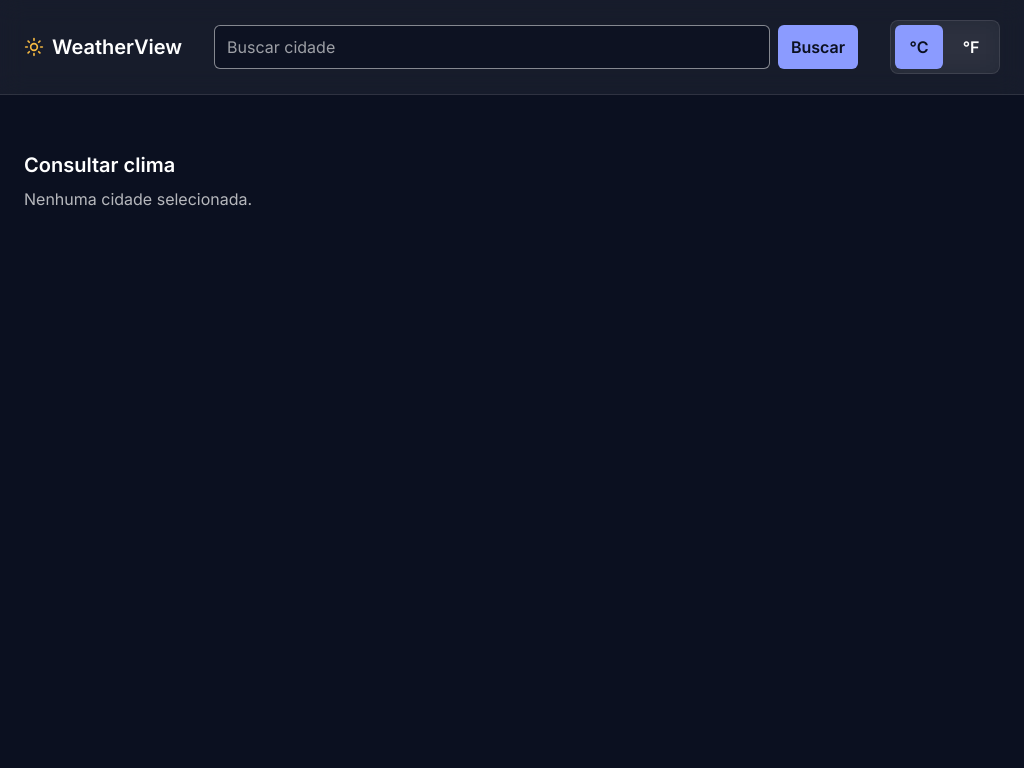
Test: App › usa o serviço real por padrão com fetch simulado, sem depender de cidade fixa
Type "Lisboa" into the search field at (492, 47), box x1=214 y1=25 x2=770 y2=69
Then press Enter
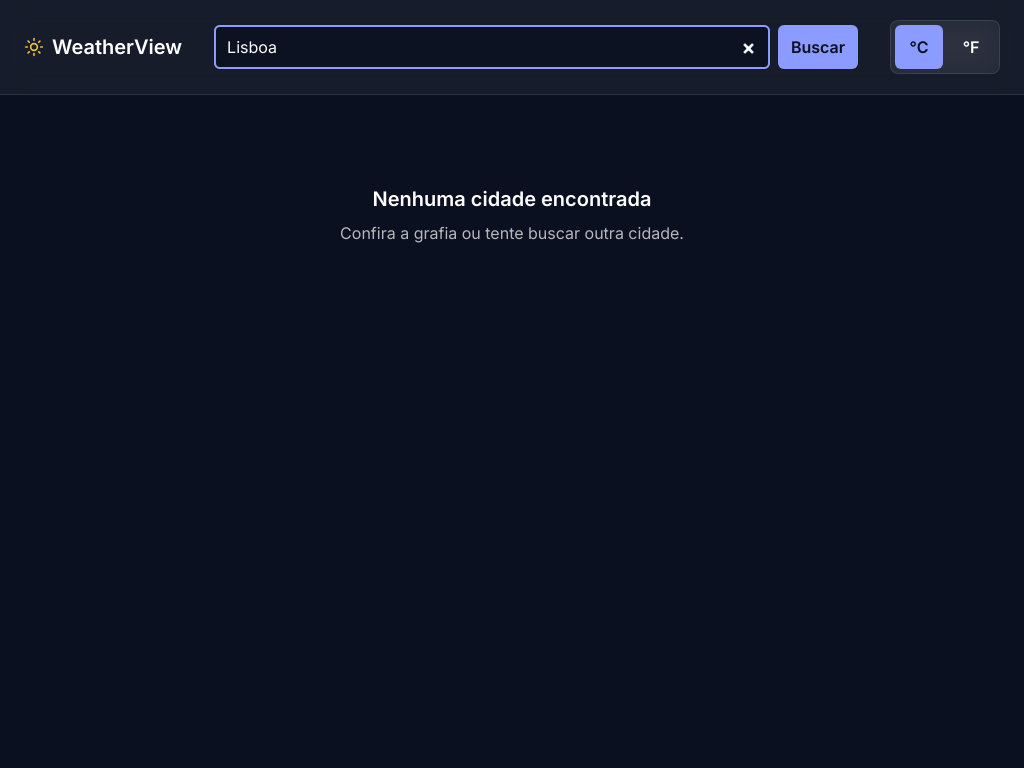
Expected: the heading "Nenhuma cidade encontrada" is shown, x1=373 y1=185 x2=652 y2=213
Replace the text in the search field with "Porto Alegre" at (492, 47), box x1=214 y1=25 x2=770 y2=69
Then press Enter
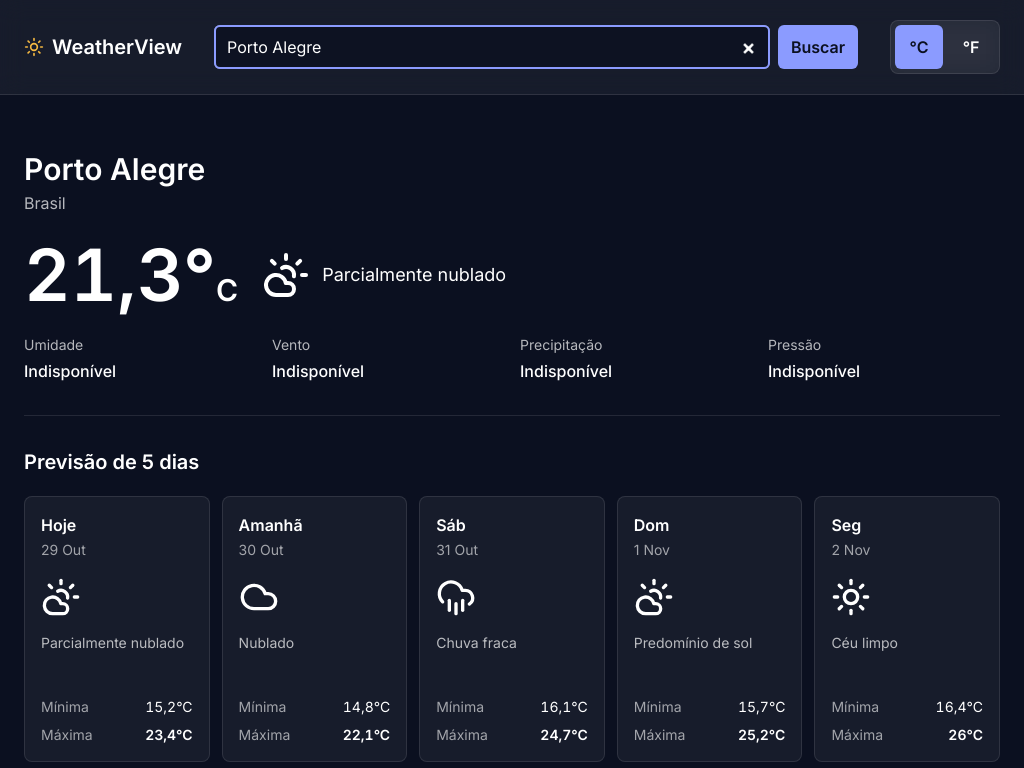
Expected: the element named "Temperatura atual" reads "21,3°C", x1=24 y1=239 x2=238 y2=311
Expected: the element "Porto Alegre" is shown, x1=24 y1=119 x2=1000 y2=416
Click the button named "Fahrenheit" at (971, 47), box x1=947 y1=25 x2=995 y2=69
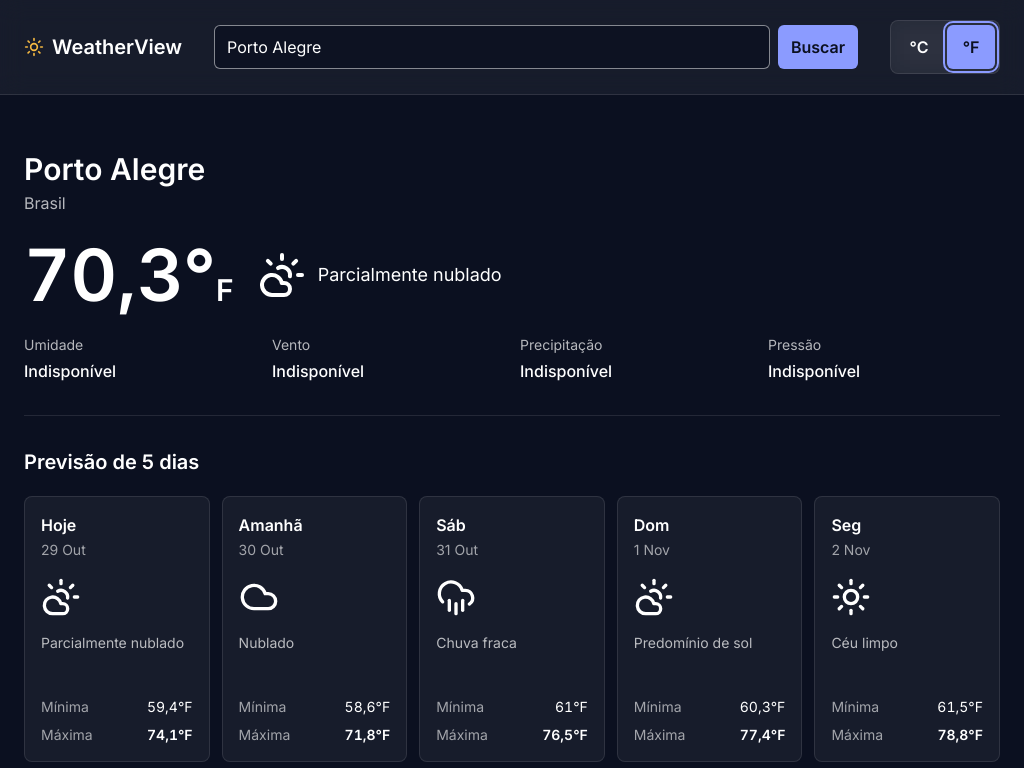
Expected: the element named "Temperatura atual" reads "70,3°F", x1=24 y1=239 x2=234 y2=311
